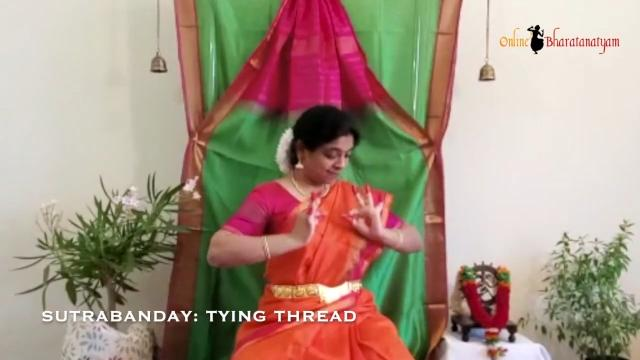hansaasya: (344, 185, 401, 247)
